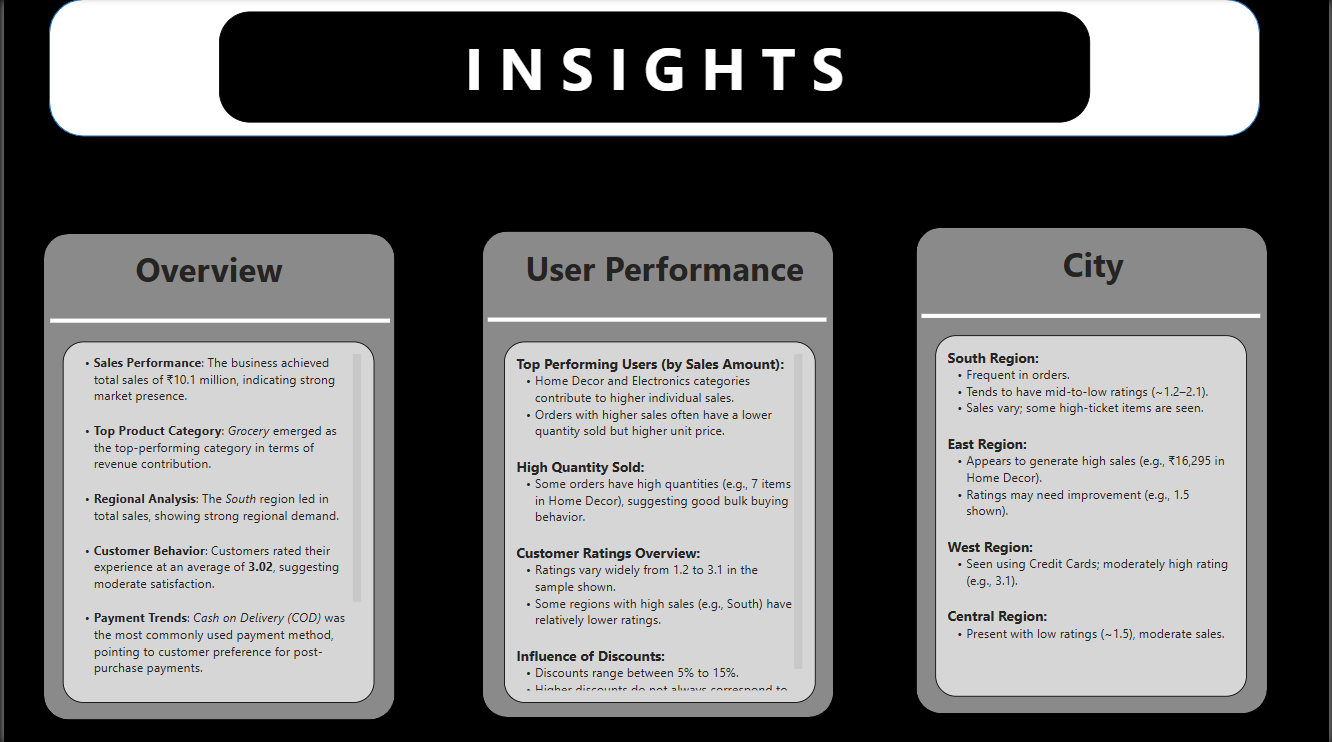

This screenshot's page, from the dashboard's own definition file:
{"tool":"powerbi","page":{"name":"Insights","canvas":[1280,720],"ordinal":1},"visuals":[{"type":"shape","box":[29,217.2,358.3,488.6],"z":0},{"type":"shape","box":[44.3,160.7,327.9,300],"z":1000},{"type":"textbox","box":[56.7,330.6,300.4,348.7],"z":2000},{"type":"shape","box":[870.5,210.8,358.3,488.6],"z":3000},{"type":"shape","box":[885,155.3,326.9,300.4],"z":4000},{"type":"shape","box":[452.2,215,358.3,488.6],"z":5000},{"type":"shape","box":[466.7,159.5,326.9,300.4],"z":6000},{"type":"textbox","box":[482.6,330.6,300.4,348.7],"z":7000},{"type":"textbox","box":[899.3,324.2,300.4,348.7],"z":8000},{"type":"shape","box":[43.4,0,1169,132.7],"z":9000},{"type":"textbox","box":[207.5,12.1,840.9,107.4],"z":10000},{"type":"textbox","box":[57.4,234.4,300,63.9],"z":11000},{"type":"textbox","box":[901.6,229.5,300,63.9],"z":12000},{"type":"textbox","box":[498.4,232.8,300,62.3],"z":13000}]}

Visuals, with their boxes in screenshot pixels (x1, y1, x2, y2), scaled from the page's 1280x720 canvas onto the 1332x742 screenshot:
shape: region(30, 224, 403, 727)
shape: region(46, 166, 387, 475)
textbox: region(59, 341, 372, 700)
shape: region(906, 217, 1279, 721)
shape: region(921, 160, 1261, 470)
shape: region(471, 222, 843, 725)
shape: region(486, 164, 826, 474)
textbox: region(502, 341, 815, 700)
textbox: region(936, 334, 1248, 693)
shape: region(45, 0, 1262, 137)
textbox: region(216, 12, 1091, 123)
textbox: region(60, 242, 372, 307)
textbox: region(938, 237, 1250, 302)
textbox: region(519, 240, 831, 304)
